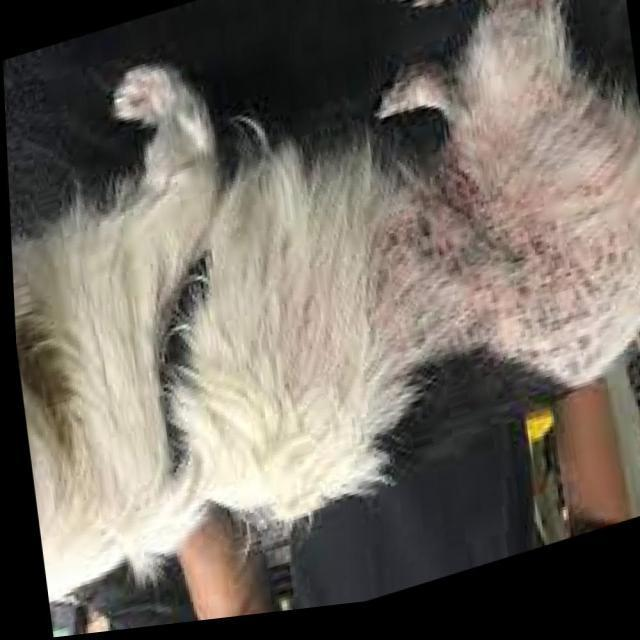allergic dermatitis: (369, 138, 617, 372)
